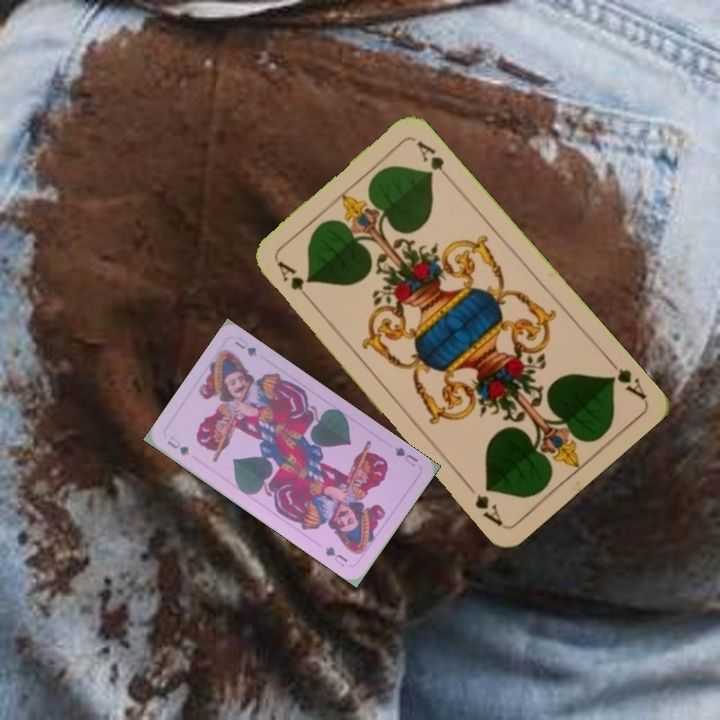GA: (603, 354, 649, 402), (273, 257, 316, 306)
GU: (163, 432, 192, 459), (391, 443, 420, 469)
